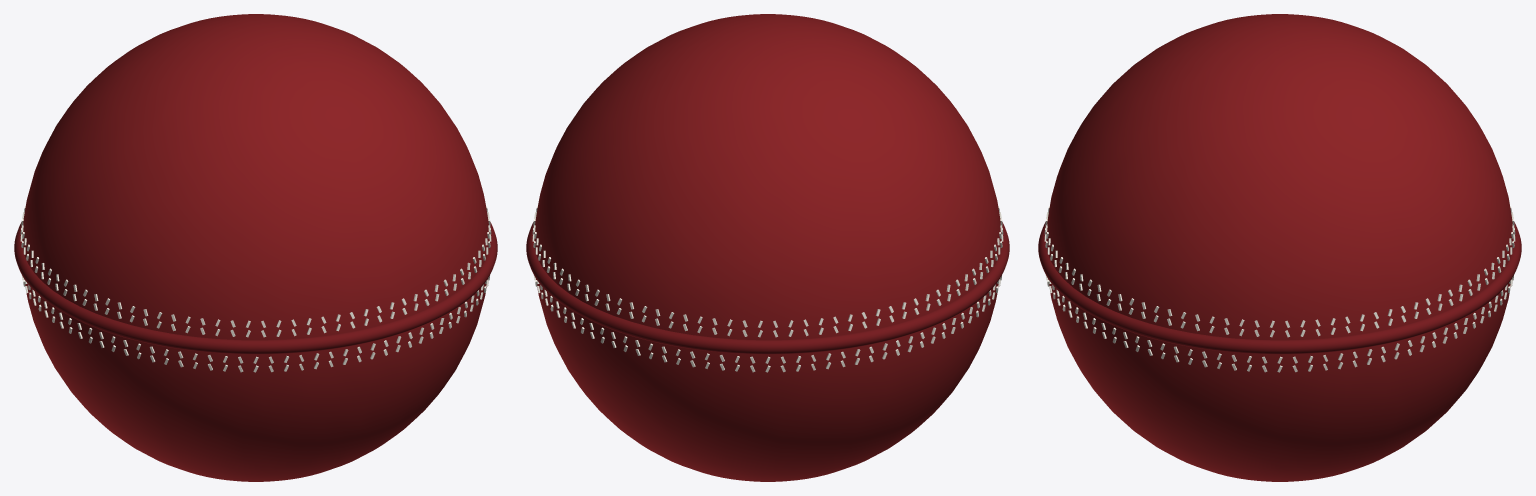
File: cricket-ball.glb
3 renders of one model, left to right at view 1: azimuth 30°, elevation 25°; view 2: azimuth 150°, elevation 25°; view 3: azimuth 270°, elevation 25°, orthographic.
Parts seen in each view (by area): view 1: CricketBall; view 2: CricketBall; view 3: CricketBall.
Part boxes in pixels (bbox=[...]): CricketBall: bbox=[14, 14, 497, 481]; CricketBall: bbox=[526, 14, 1009, 481]; CricketBall: bbox=[1038, 14, 1521, 481].
Bounding box in the file's own units: 2.06 × 2 × 2.06.
